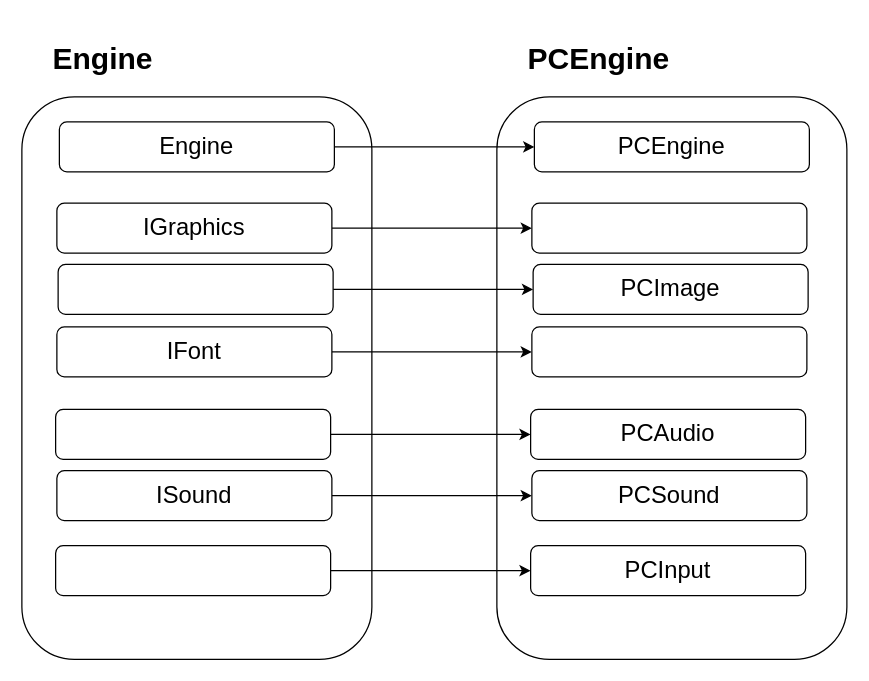
This 869x681 diagram has some shape labels left out. Each missing label, with the centre of its shape:
IAudio: (192,433)
IImage: (195,288)
IInput: (192,570)
PC Font: (669,351)
PC Graphics: (669,227)
